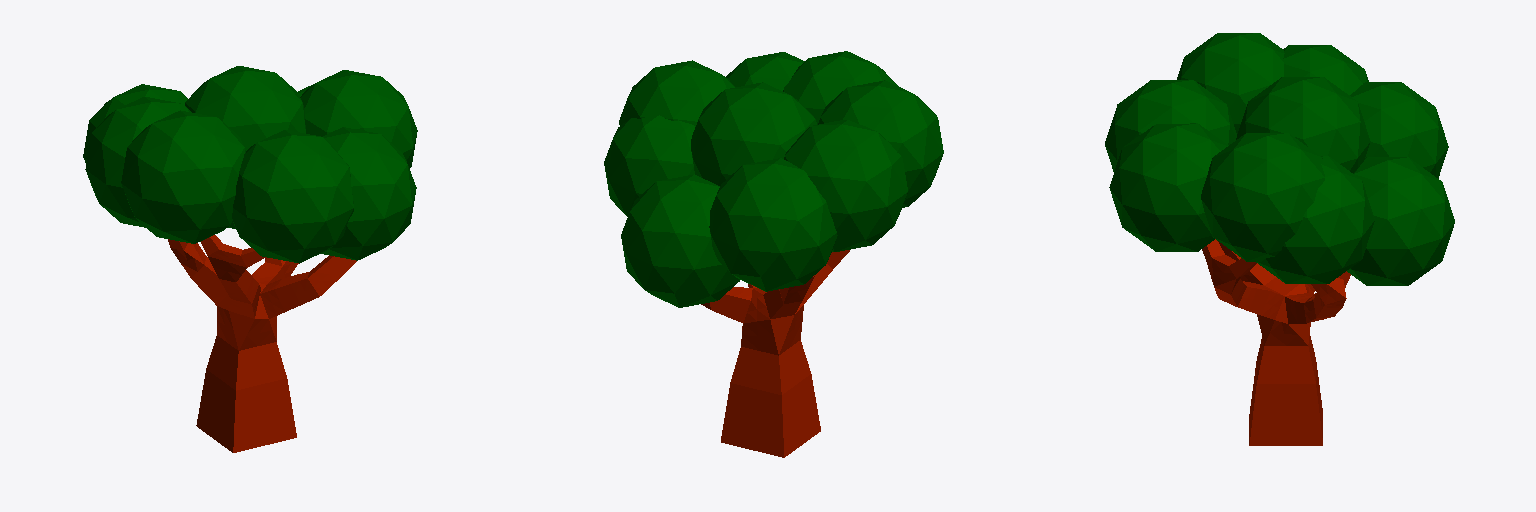
The model's file is TreeTransparent.obj.
3 views of the same model, side by side, from view 1: azimuth 30°, elevation 25°; view 2: azimuth 150°, elevation 25°; view 3: azimuth 270°, elevation 25° (orthographic).
Size of the model in its own units: 7.38 by 8.61 by 7.74.